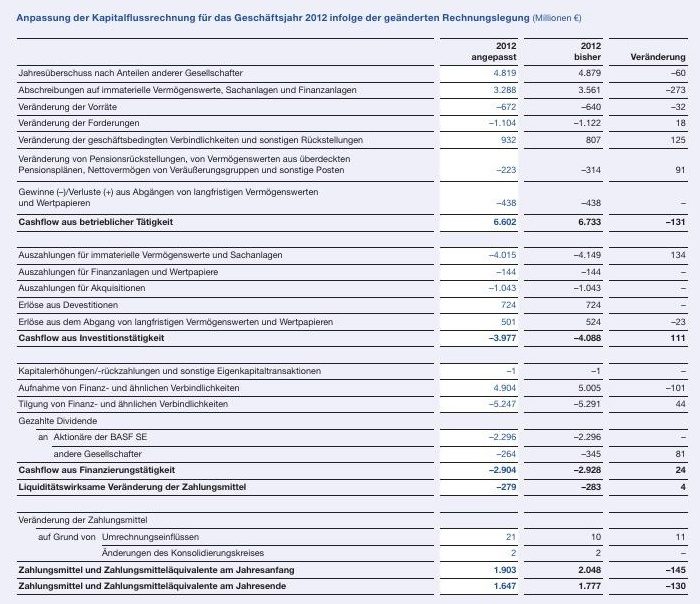table: (0, 0, 700, 604)
